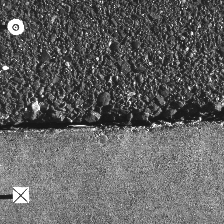circle: (7, 18, 24, 34)
crack: (1, 110, 223, 131)
square: (12, 187, 29, 203)
